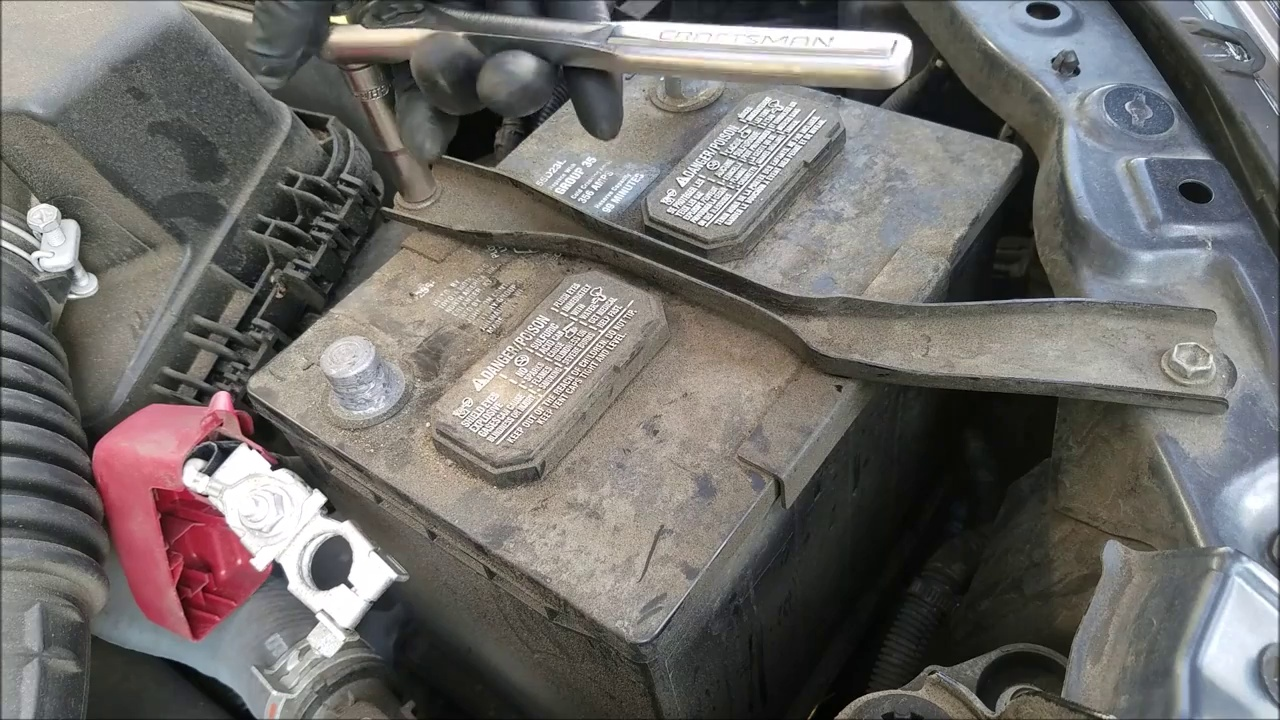battery: (238, 34, 1024, 633)
pos_disconnected: (97, 330, 412, 611)
